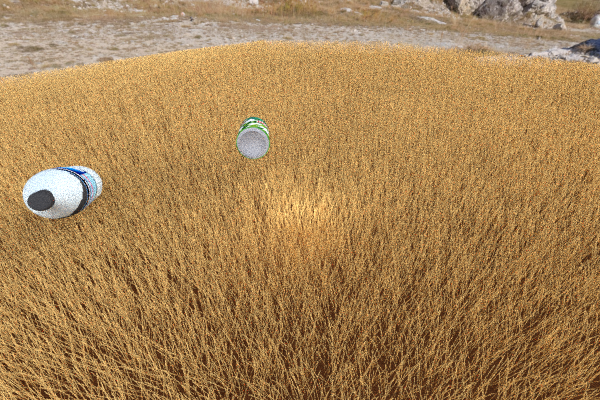bottle: (22, 165, 102, 218)
can: (377, 177, 480, 223), (236, 116, 269, 159)
